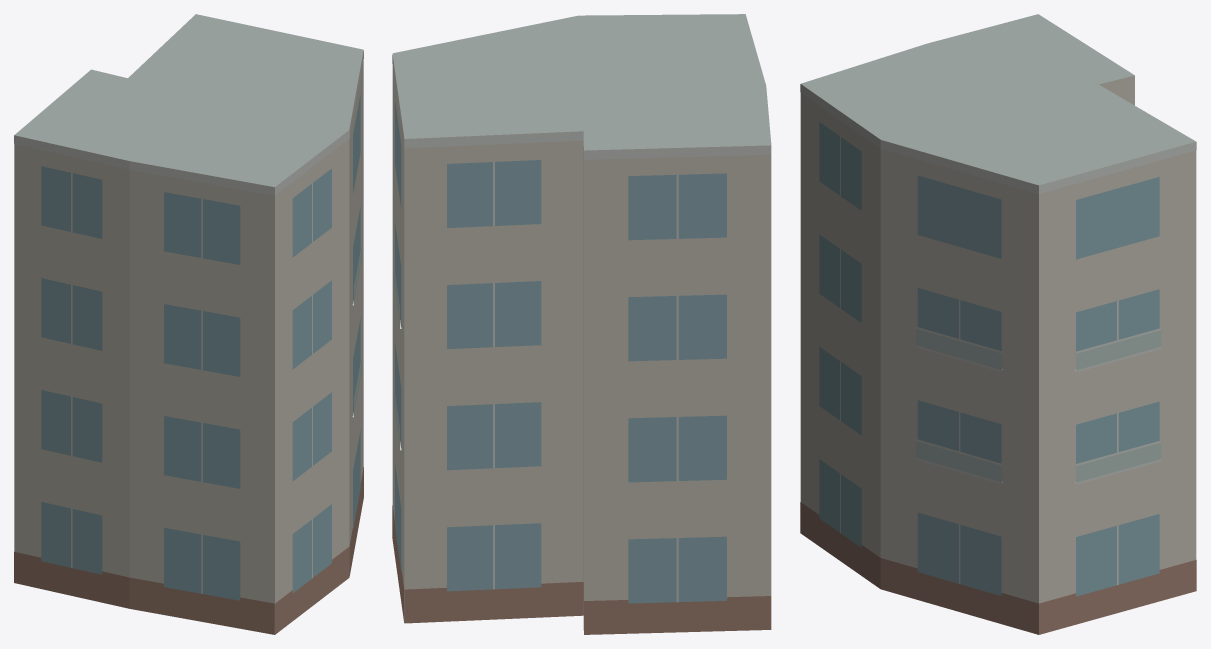
Rendered from survey-upis-32509077.glb.
3 renders of one model, left to right at view 1: azimuth 30°, elevation 25°; view 2: azimuth 150°, elevation 25°; view 3: azimuth 270°, elevation 25°, orthographic. The views are drawn at different scales.
Visible parts, largest first — view 1: survey-upis-32509077.tmp; view 2: survey-upis-32509077.tmp; view 3: survey-upis-32509077.tmp.
Boxes of the visible parts, box(x1,y1,x2,y2) form: survey-upis-32509077.tmp: box(14, 14, 363, 634); survey-upis-32509077.tmp: box(392, 14, 771, 634); survey-upis-32509077.tmp: box(800, 14, 1196, 634).
Size of the model in its own units: 10.4 by 12.7 by 10.15.
